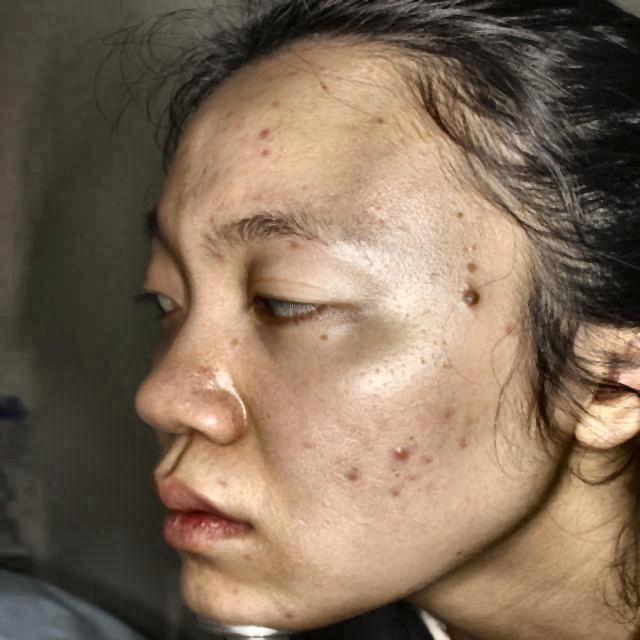comedone: (335, 463, 365, 488), (253, 124, 275, 156), (389, 440, 413, 464)
